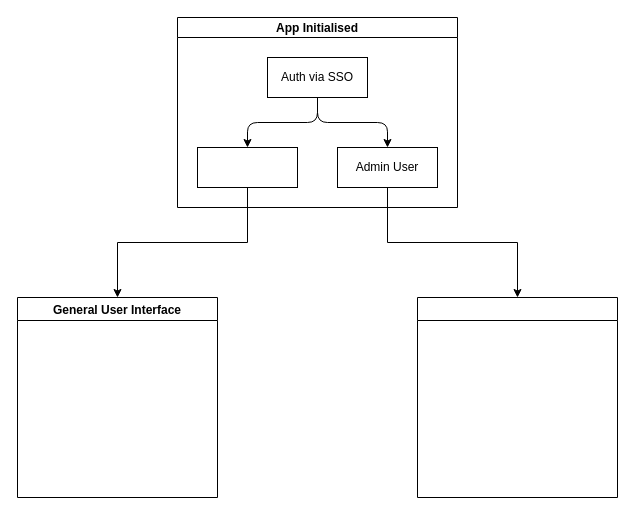
The diagram is 635 pixels wide and 515 high, and some of its shapes have lost their labels. Here are the shapes that lost their labels. From the top down, the box of each, then its label:
(196, 146, 298, 188): General User
(416, 296, 618, 498): Admin User Interface
